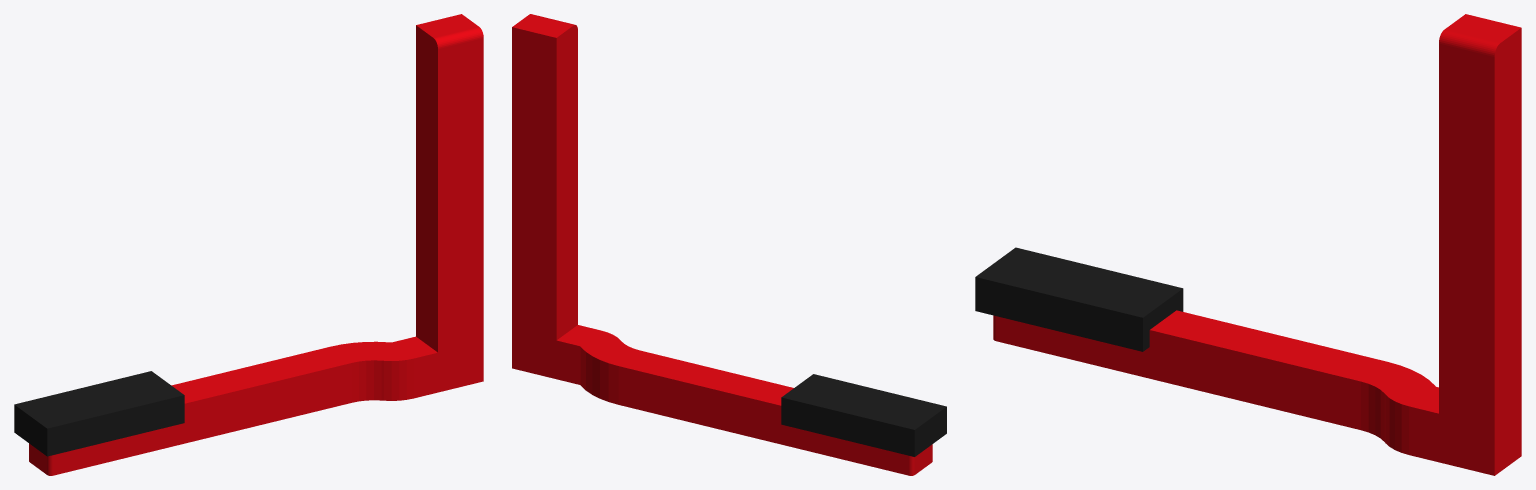
The model's file is sawyer_gripper_right.dae.
3 views of the same model, side by side, from view 1: azimuth 30°, elevation 25°; view 2: azimuth 150°, elevation 25°; view 3: azimuth 330°, elevation 25° (orthographic). The views are drawn at different scales.
Visible parts, largest first — view 1: sawyer_gripper_right; view 2: sawyer_gripper_right; view 3: sawyer_gripper_right.
Part boxes in pixels (left/top/right/bottom): sawyer_gripper_right: left=14, top=14, right=483, bottom=475; sawyer_gripper_right: left=512, top=14, right=946, bottom=475; sawyer_gripper_right: left=975, top=14, right=1521, bottom=475.
Bounding box in the file's own units: 0.113 × 0.0175 × 0.088.
